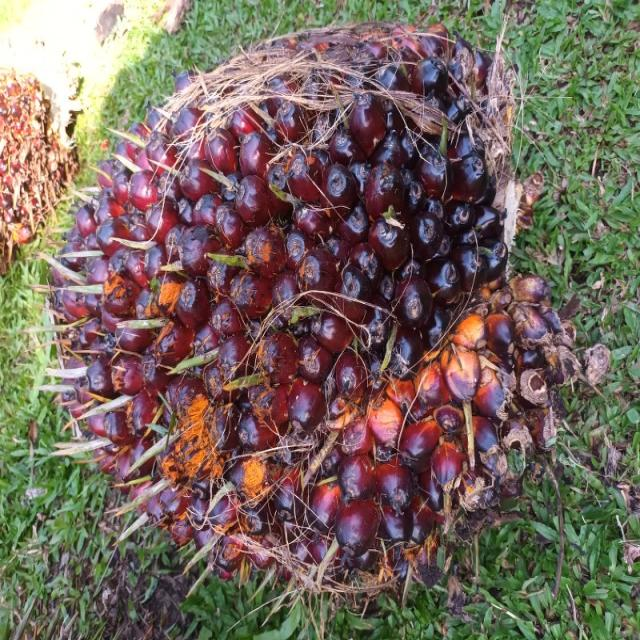fraksi 1: (32, 42, 473, 640)
